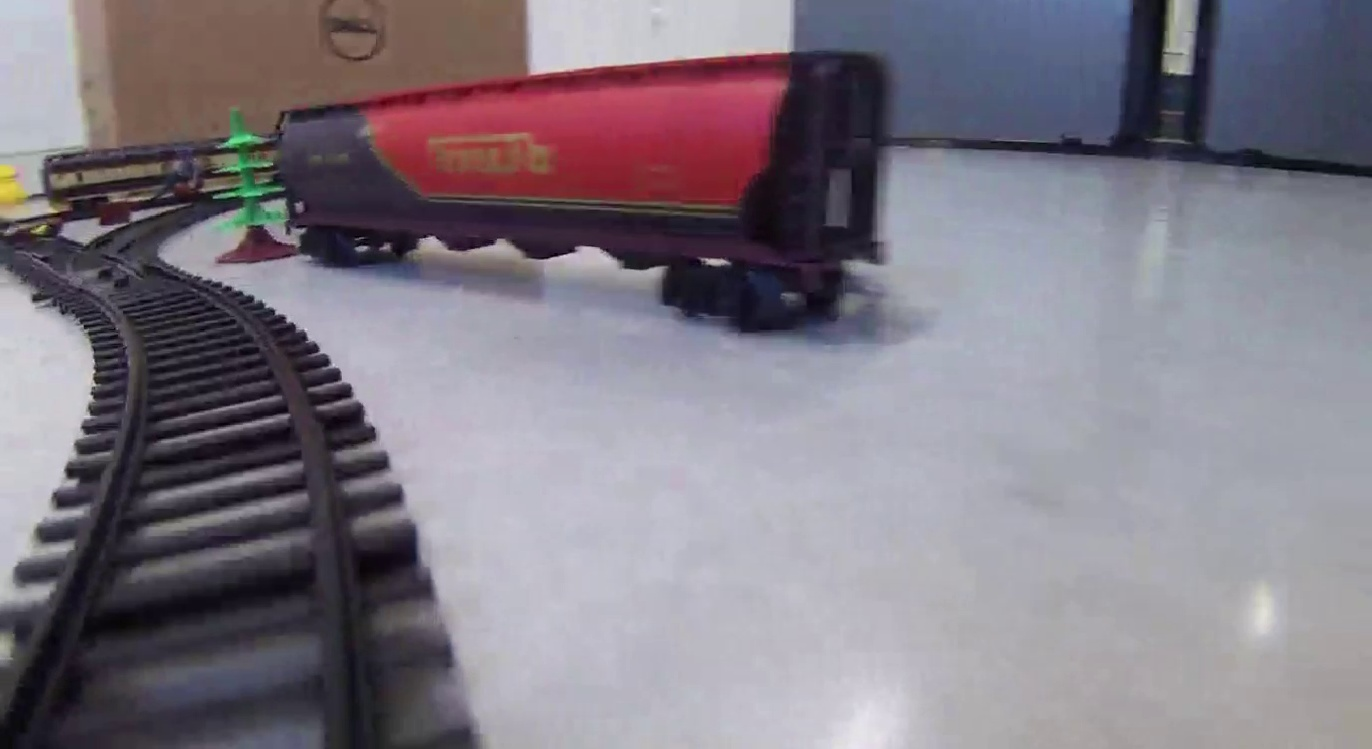tree: (208, 104, 291, 263)
